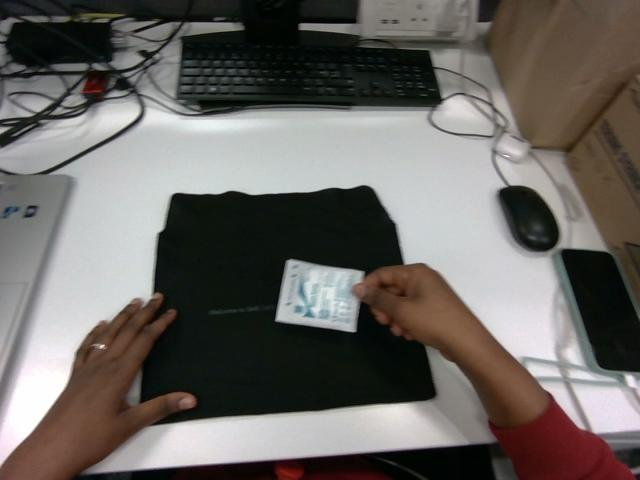gauze: (275, 259, 363, 332)
